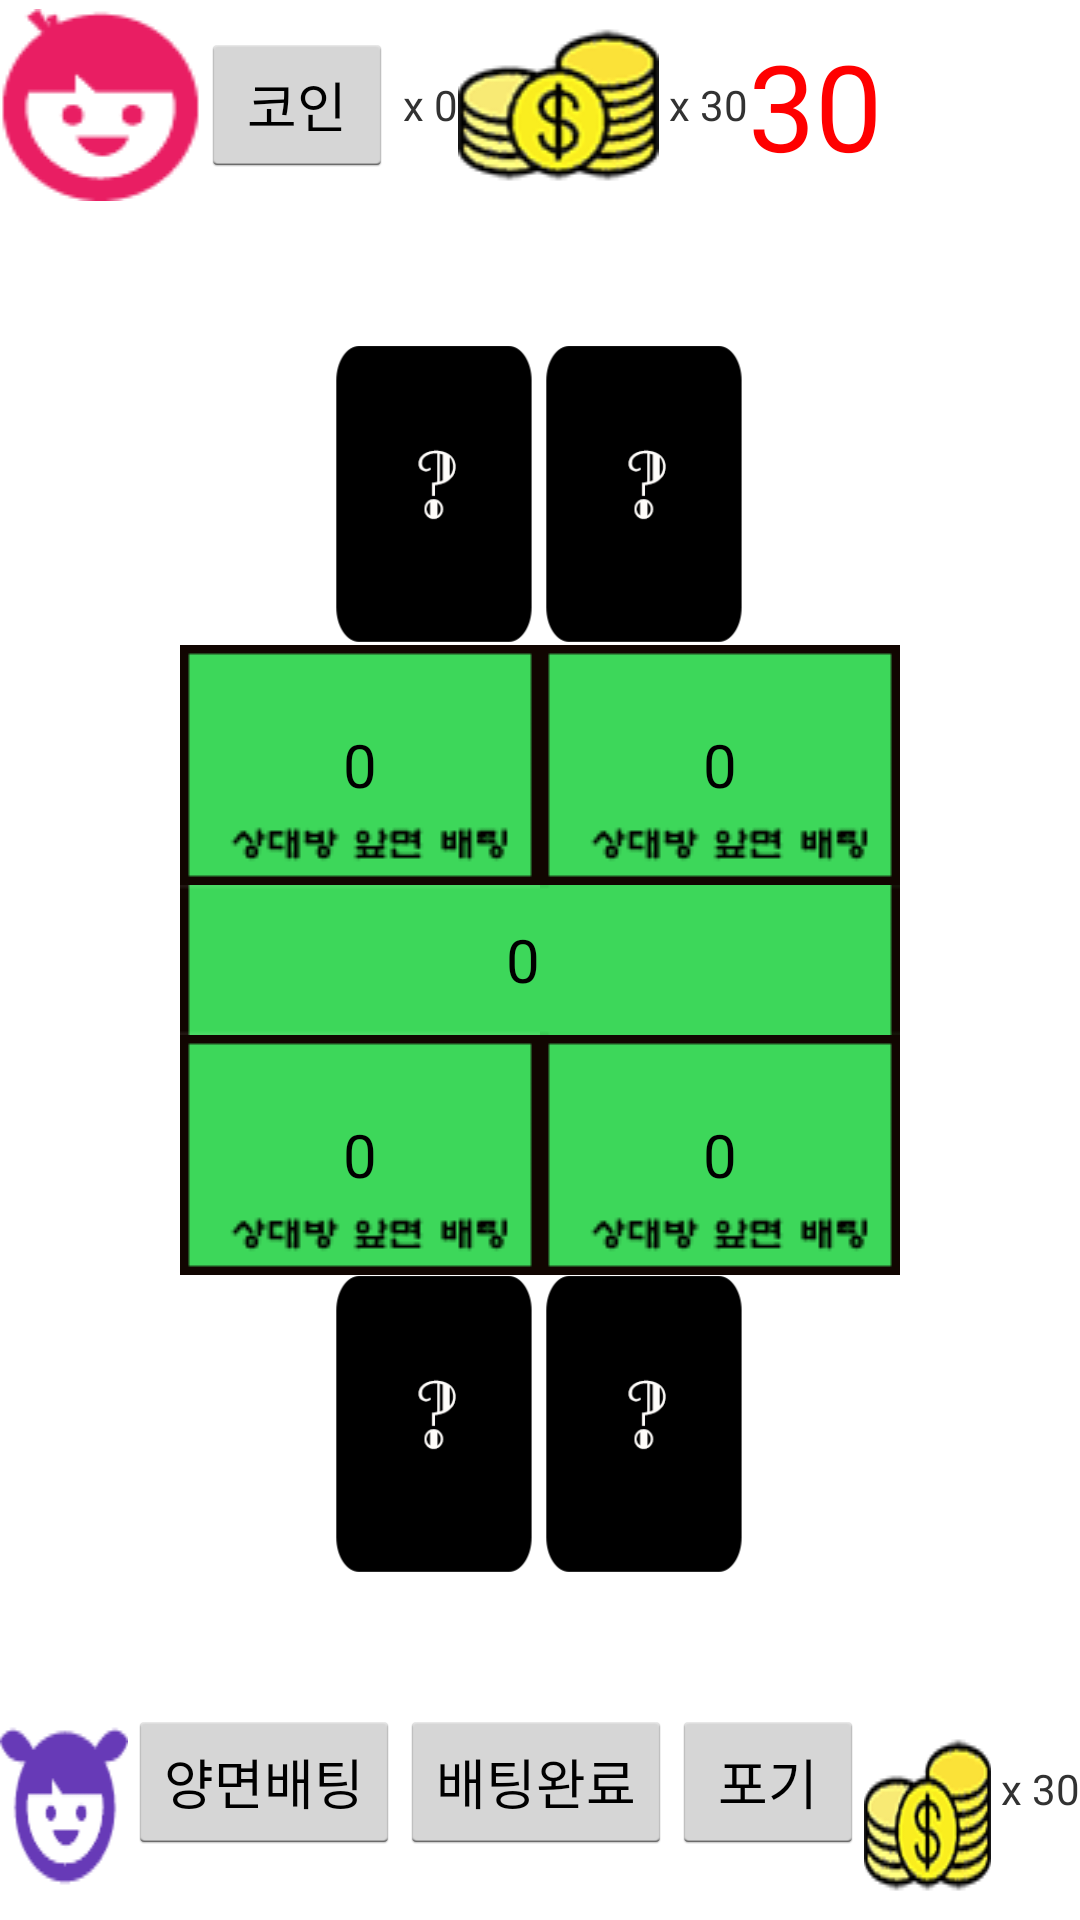

Named icons in this screenshot (1080*1920) and their bounding boxes, (left=x1, top=y1, right=x2, bottom=y2):
coin: (left=458, top=29, right=659, bottom=181), (left=864, top=1739, right=991, bottom=1891)
counterback: (left=336, top=346, right=532, bottom=642), (left=546, top=346, right=742, bottom=642), (left=336, top=1276, right=532, bottom=1572), (left=546, top=1276, right=742, bottom=1572)
player: (left=2, top=9, right=199, bottom=201), (left=0, top=1728, right=128, bottom=1884)
